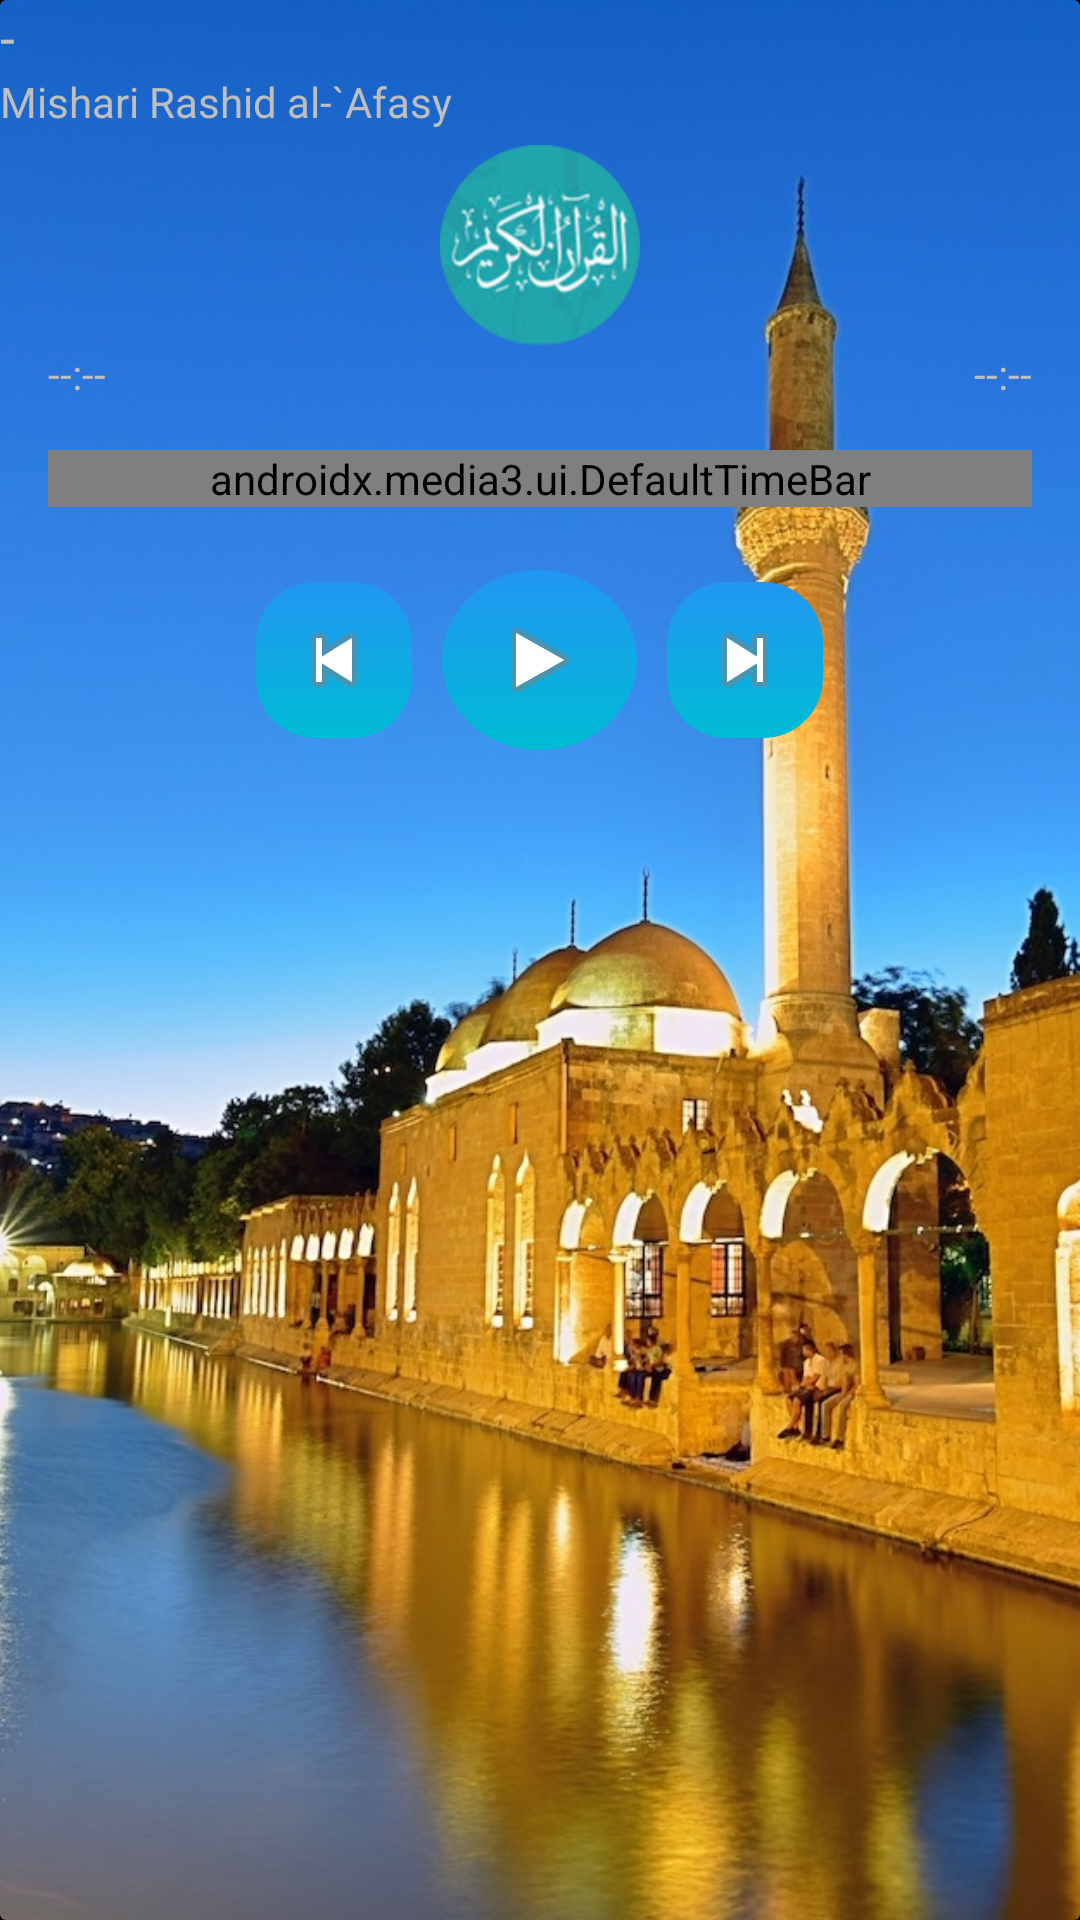

Where to tap for icons on this 1080px×1920px app screen, as (x,y):
NEXT TRACK: (745,660)
PLAY: (539,675)
PREVIOUS: (334,670)
